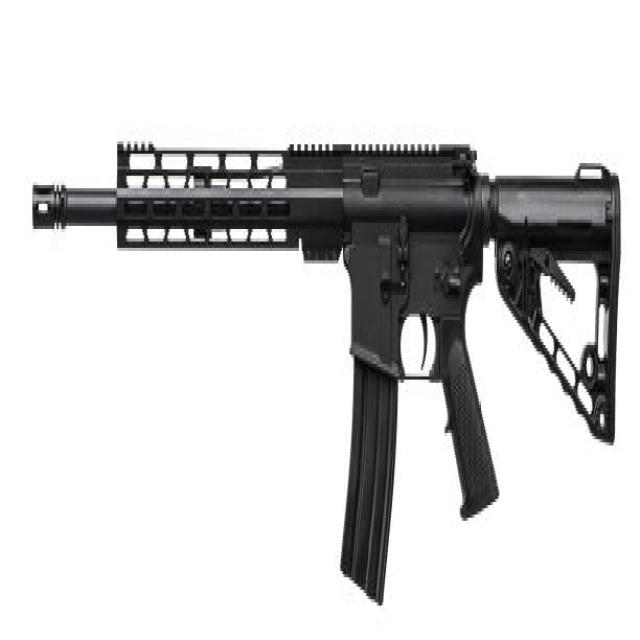rifle: (29, 125, 628, 624)
